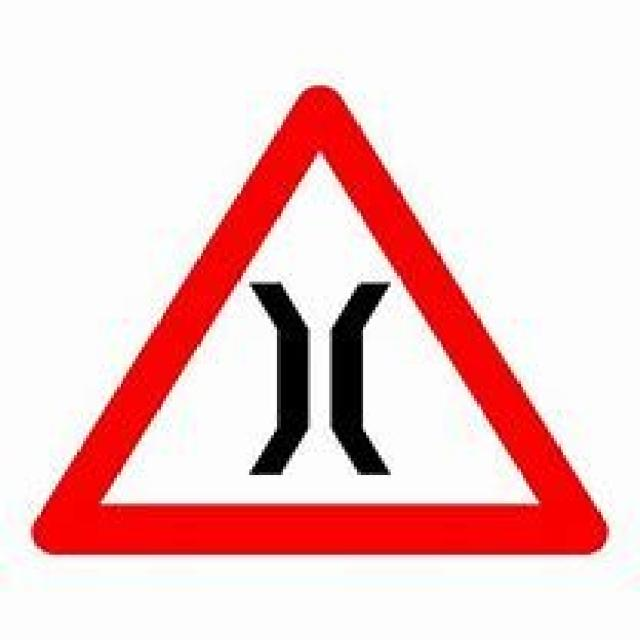NARROW_BRIDGE: (30, 86, 610, 556)
